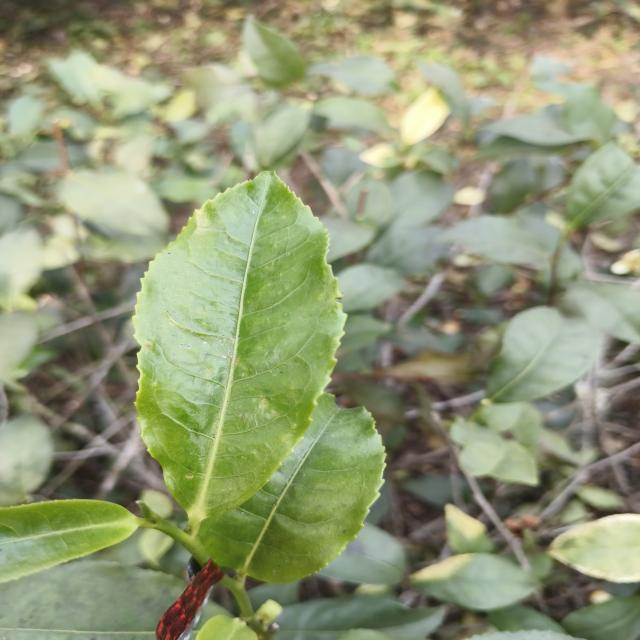Leaf: (133, 172, 345, 545), (204, 394, 385, 583), (0, 560, 186, 640), (0, 499, 139, 582), (486, 307, 601, 402), (275, 596, 445, 640), (409, 553, 537, 611), (57, 169, 169, 235), (565, 142, 640, 228), (548, 514, 640, 583), (319, 523, 406, 585), (443, 216, 546, 267), (564, 281, 640, 343), (243, 16, 305, 88), (482, 105, 586, 146), (0, 415, 54, 492), (551, 83, 617, 146), (0, 225, 44, 310), (390, 171, 453, 228), (254, 104, 310, 168), (561, 595, 640, 640), (417, 62, 471, 127), (337, 263, 406, 313), (309, 56, 394, 96), (313, 96, 391, 134), (400, 88, 450, 145), (445, 504, 494, 554), (490, 158, 534, 213), (323, 217, 375, 263), (490, 440, 538, 486), (489, 604, 564, 633), (459, 441, 504, 476), (7, 95, 43, 136)
